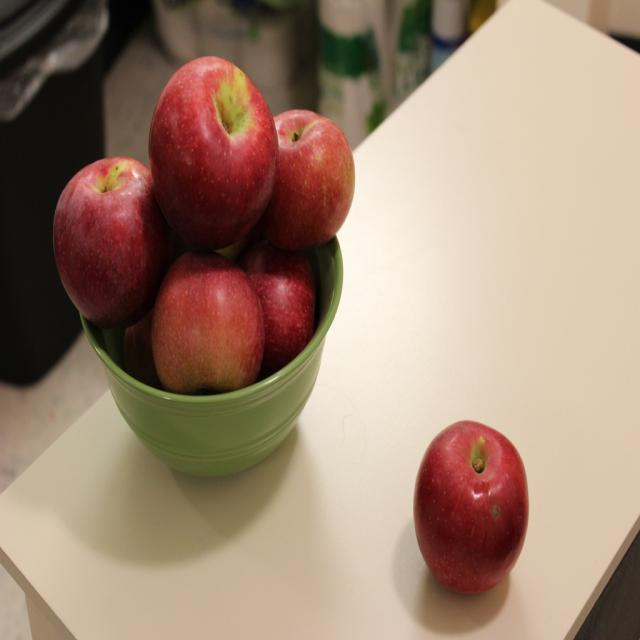Healty Apple: (148, 53, 279, 254), (412, 416, 530, 597), (51, 160, 168, 327), (153, 251, 264, 396), (260, 104, 353, 251), (236, 242, 312, 358), (123, 325, 159, 381)
